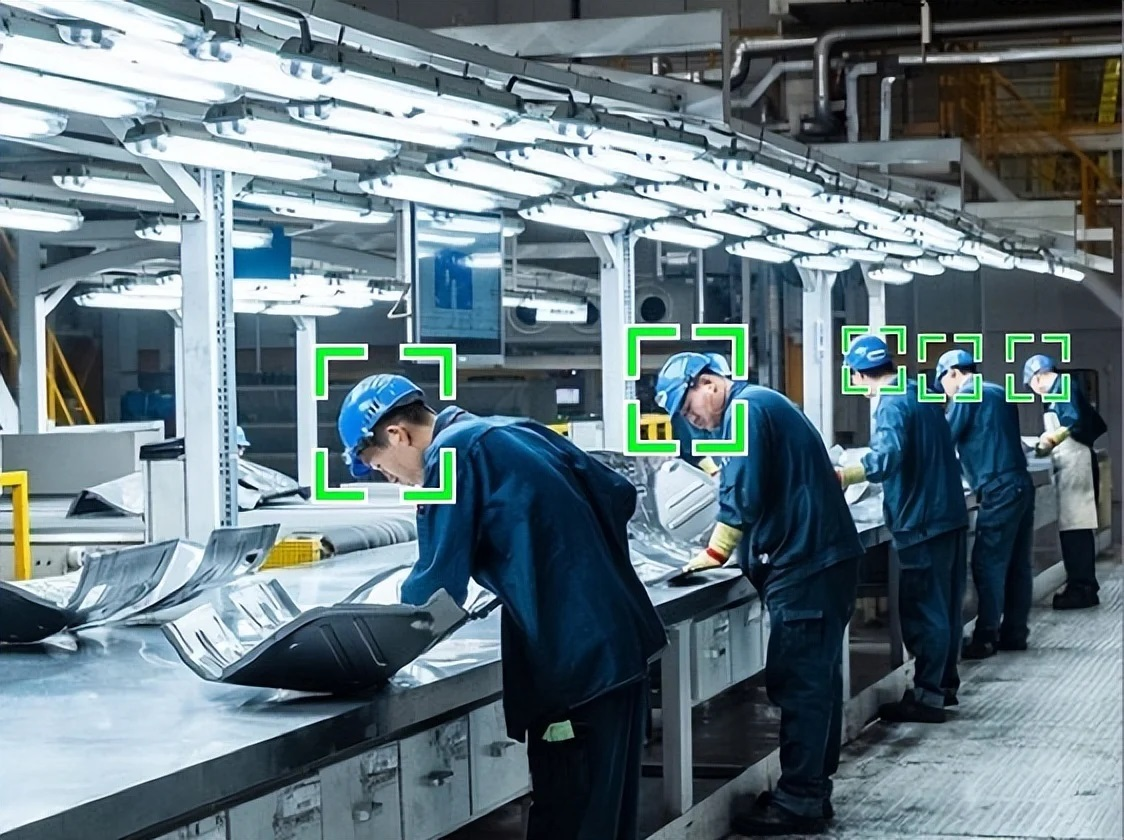helmet: (330, 370, 434, 453), (933, 345, 972, 376)
